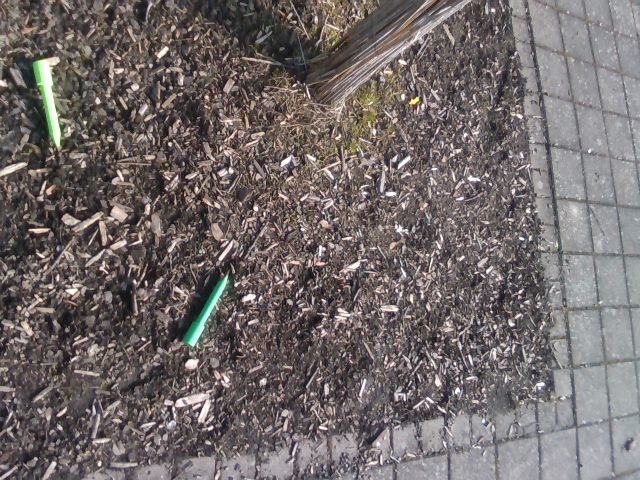Probe: (178, 264, 239, 361), (28, 51, 68, 157)
